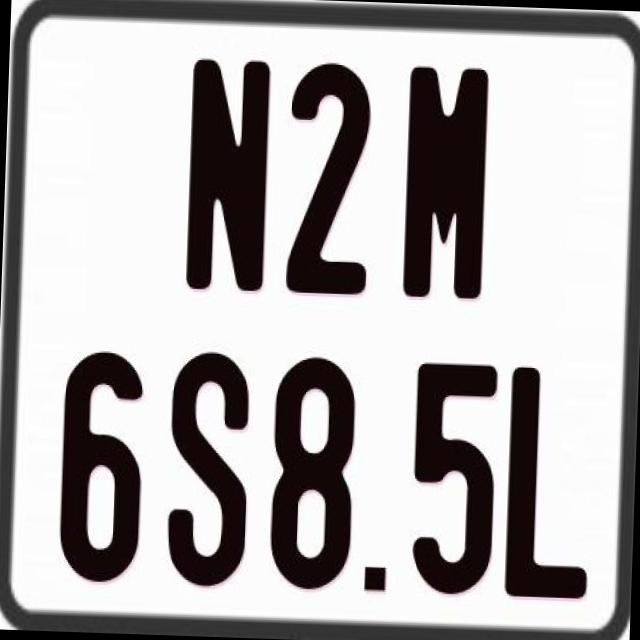2: (285, 56, 376, 294)
5: (408, 360, 496, 598)
6: (54, 348, 144, 584)
8: (264, 352, 354, 592)
L: (502, 362, 594, 594)
M: (402, 62, 488, 305)
N: (182, 56, 276, 294)
S: (165, 345, 252, 588)
